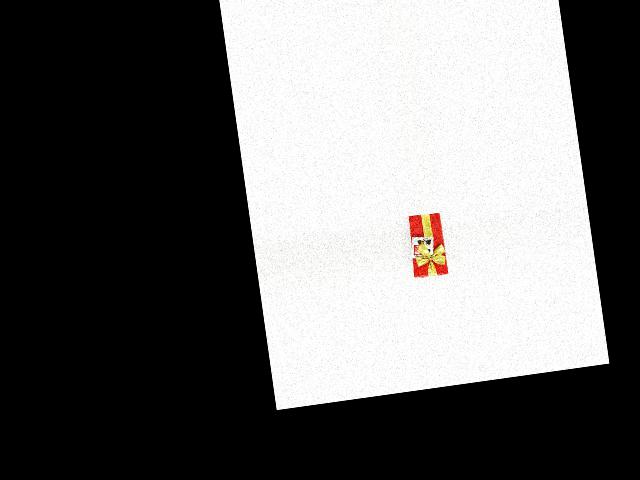chocolate: (406, 212, 451, 280)
